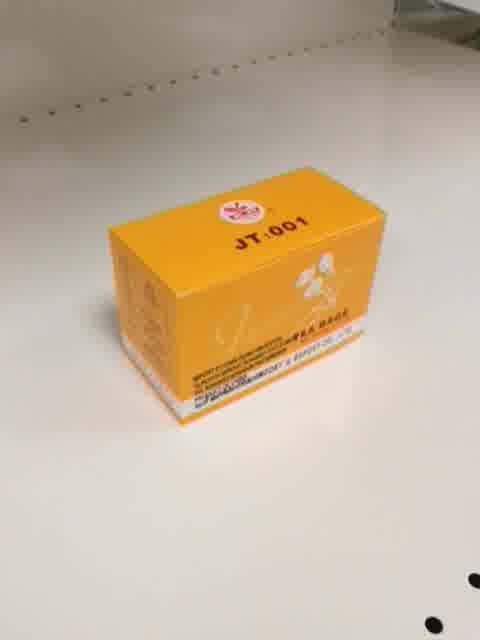jasminetea: (109, 164, 389, 430)
